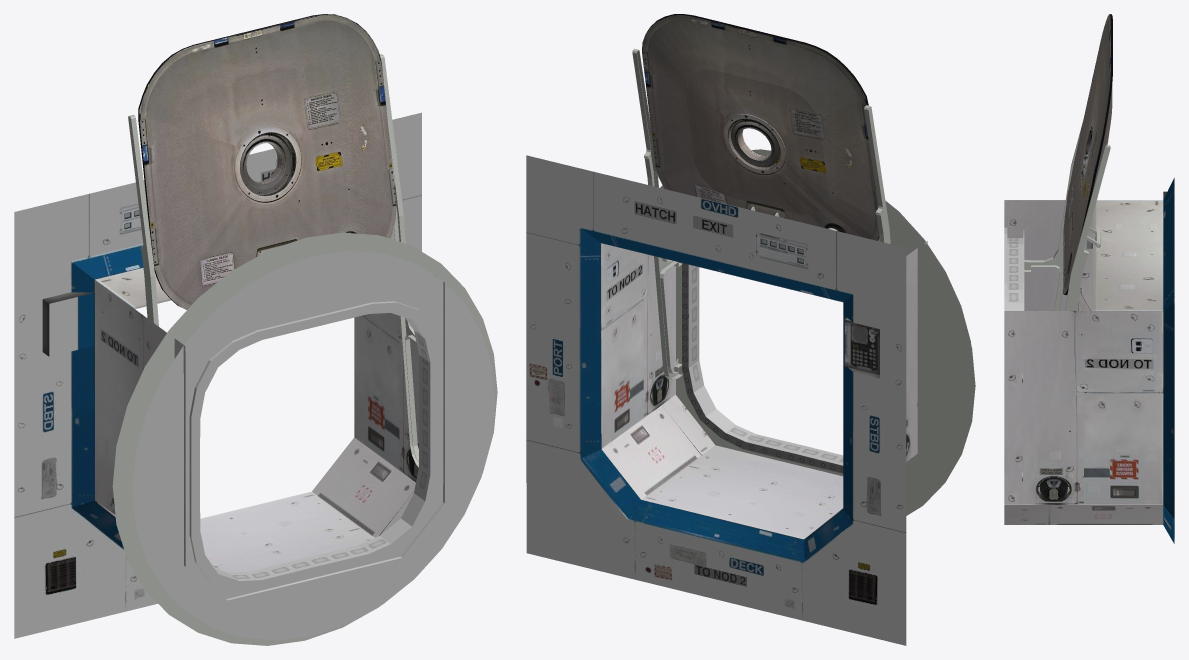
Rendered from US_Lab_FwdEnd.C.dae.
The picture shows the model from 3 angles, left to right: view 1: azimuth 30°, elevation 25°; view 2: azimuth 150°, elevation 25°; view 3: azimuth 270°, elevation 25°; orthographic projection. The views are drawn at different scales.
Visible parts, largest first — view 1: node; view 2: node; view 3: node.
Part boxes in pixels (x1,y1,x2,y2): node: [14, 14, 497, 645]; node: [526, 14, 975, 645]; node: [1004, 14, 1174, 543].
Bounding box in the file's own units: 2.26 × 3.1 × 0.9319.
